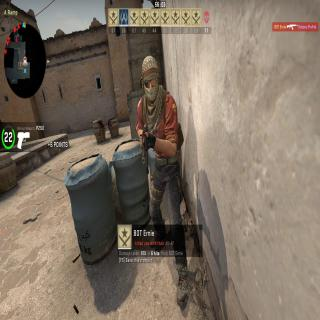T-Body: (134, 57, 189, 306)
T-Head: (140, 56, 161, 102)
